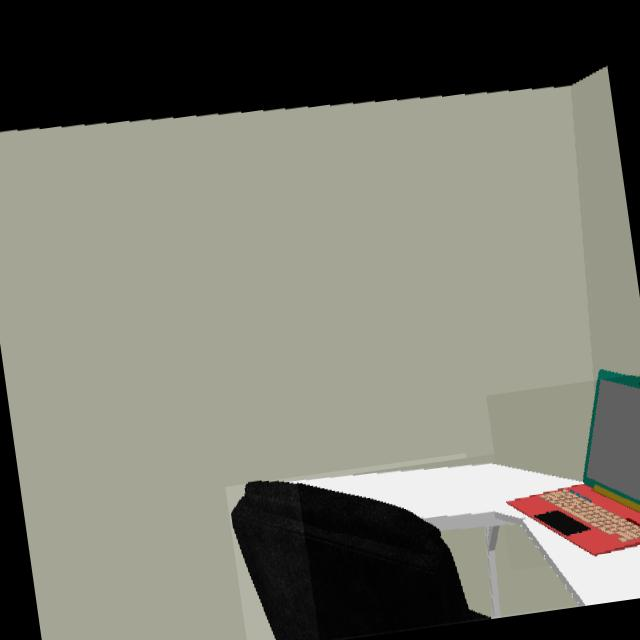chair: (230, 484, 489, 640)
laptop: (503, 375, 640, 560)
table: (297, 464, 640, 605)
